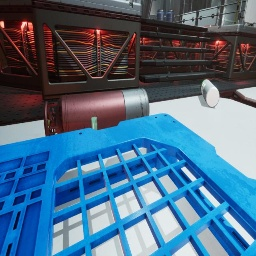0: (200, 79, 220, 108), (252, 23, 256, 27)
NitrogenTank ,: (44, 88, 150, 137), (199, 25, 217, 27)
SafetySwitchPanel ,: (153, 0, 157, 1)
